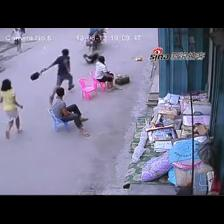person: (52, 87, 89, 136), (42, 49, 74, 105), (0, 80, 23, 139), (96, 56, 121, 91), (12, 28, 22, 51), (89, 28, 100, 37), (21, 28, 25, 36)
